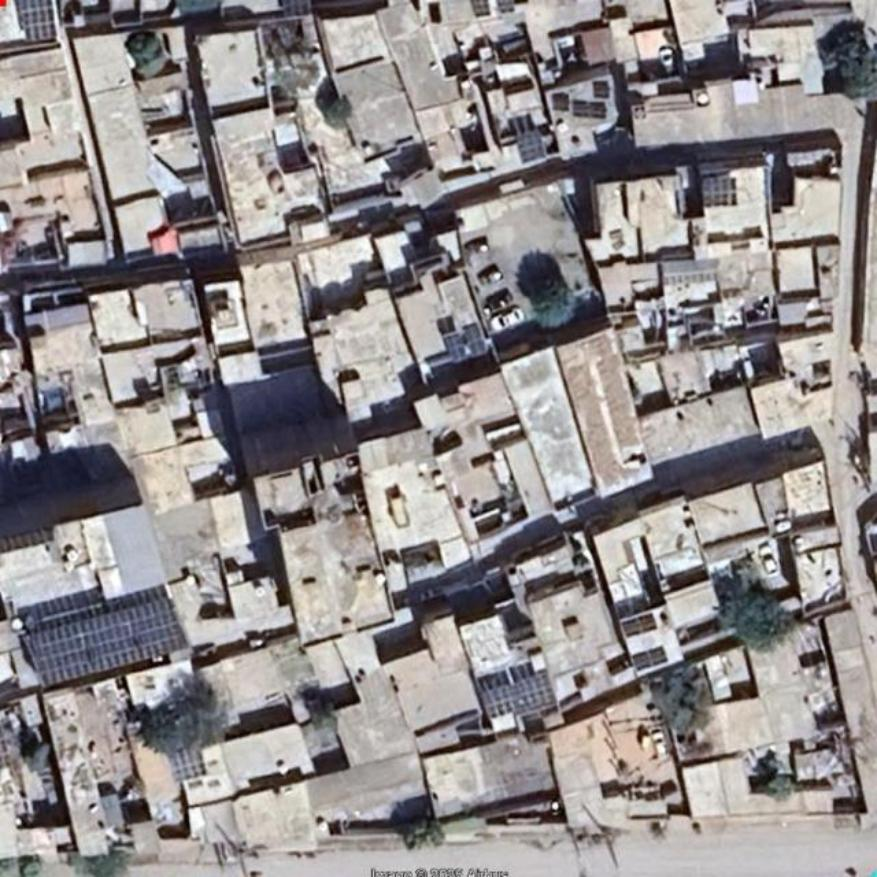Solarpanel: (20, 598, 186, 687), (481, 671, 557, 715), (18, 0, 56, 42), (702, 170, 740, 210), (515, 125, 549, 165)
